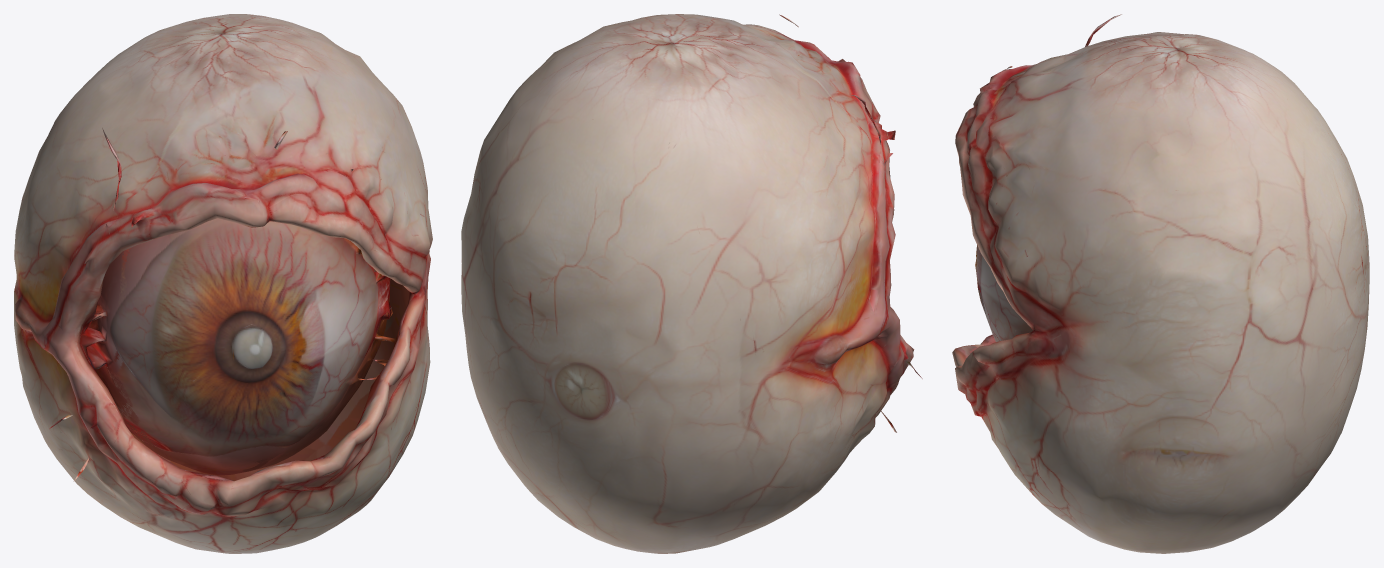
File: lefteyeobservation.glb
The picture shows the model from 3 angles, left to right: view 1: azimuth 30°, elevation 25°; view 2: azimuth 150°, elevation 25°; view 3: azimuth 270°, elevation 25°; orthographic projection. The views are drawn at different scales.
Bounding box in the file's own units: 1.65 × 1.99 × 1.56.
Materials: 1 (1 with a texture image).
